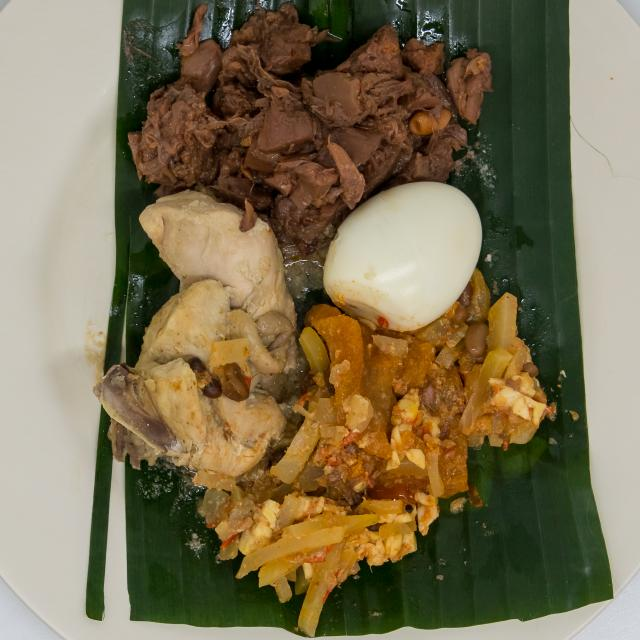Gudeg-Jogja: (80, 1, 570, 602)
